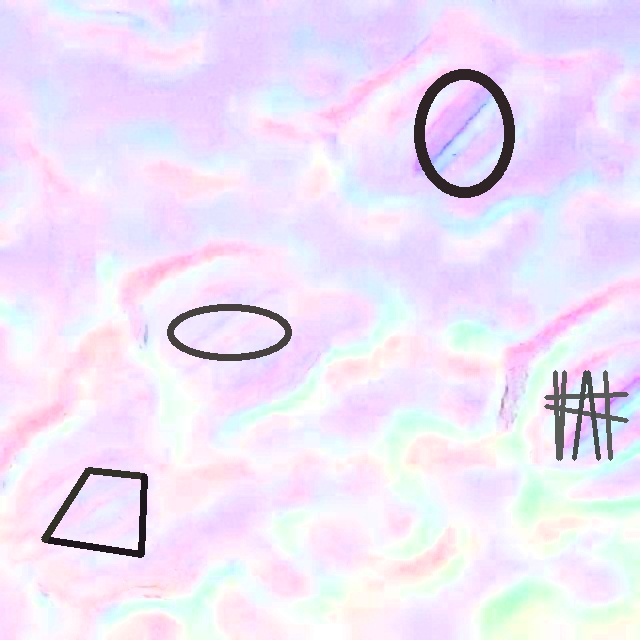close: (42, 467, 146, 557), (168, 305, 291, 359)
open: (412, 68, 515, 198), (544, 370, 628, 460)
